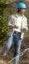hard-hat: (0, 0, 5, 4)
